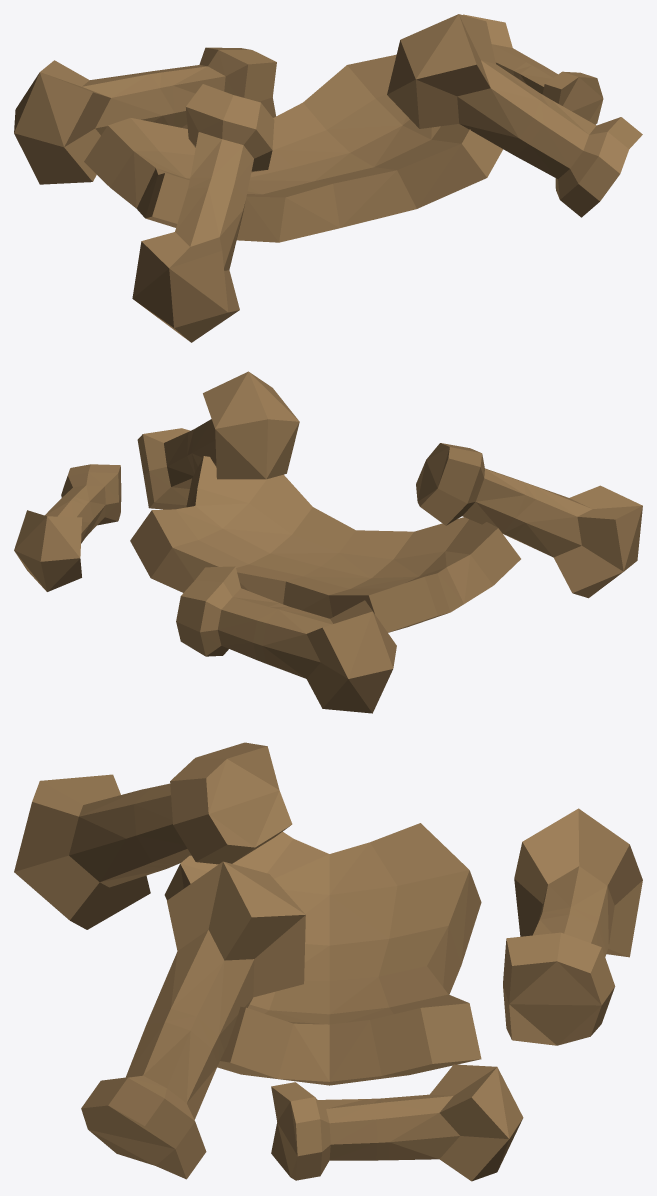
Rendered from Bones.obj.
3 views of the same model, one above another, from view 1: azimuth 30°, elevation 25°; view 2: azimuth 150°, elevation 25°; view 3: azimuth 270°, elevation 25° (orthographic). The views are drawn at different scales.
Visible parts, largest first — view 1: BonePile2_Cylinder.005; view 2: BonePile2_Cylinder.005; view 3: BonePile2_Cylinder.005.
Boxes of the visible parts, bbox=[...] form: BonePile2_Cylinder.005: bbox=[14, 14, 642, 342]; BonePile2_Cylinder.005: bbox=[14, 371, 642, 713]; BonePile2_Cylinder.005: bbox=[14, 742, 642, 1181].
Bounding box in the file's own units: 1.85 × 0.6859 × 1.47.
